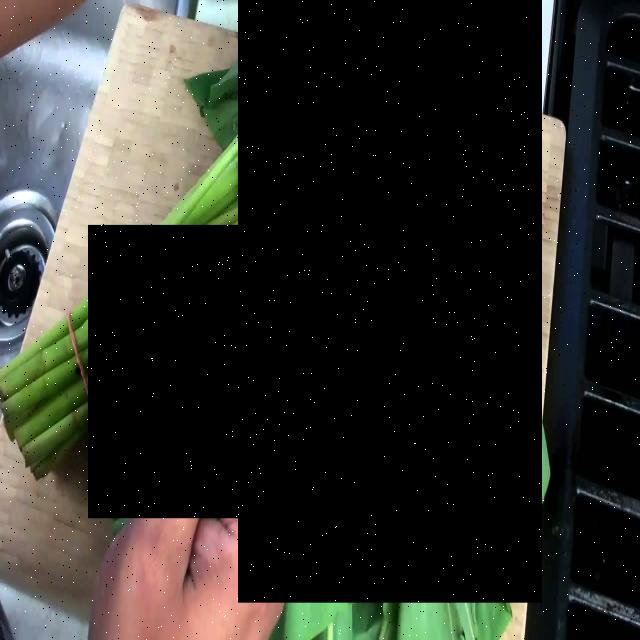Taro_Leaves: (238, 0, 542, 603), (88, 225, 310, 518)
